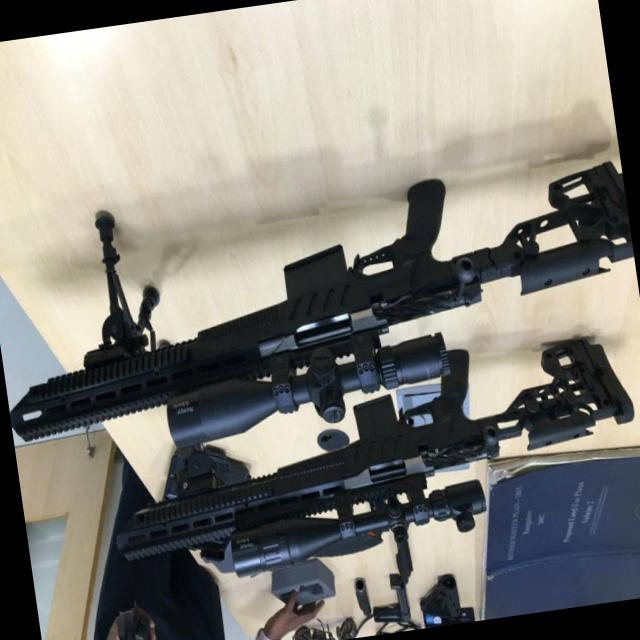Weapon: (0, 127, 640, 475), (89, 322, 640, 622)
